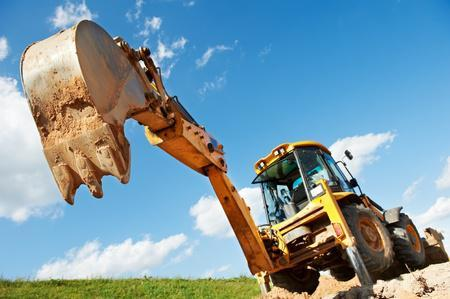EXCAVATORS: (19, 15, 447, 294)
